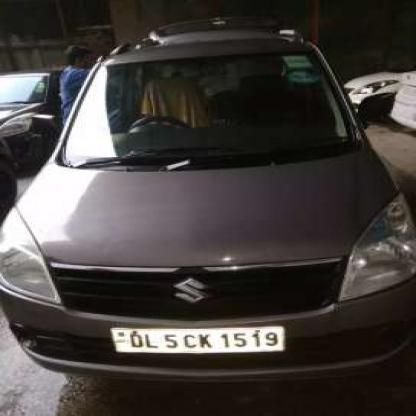license: (106, 323, 292, 354)
